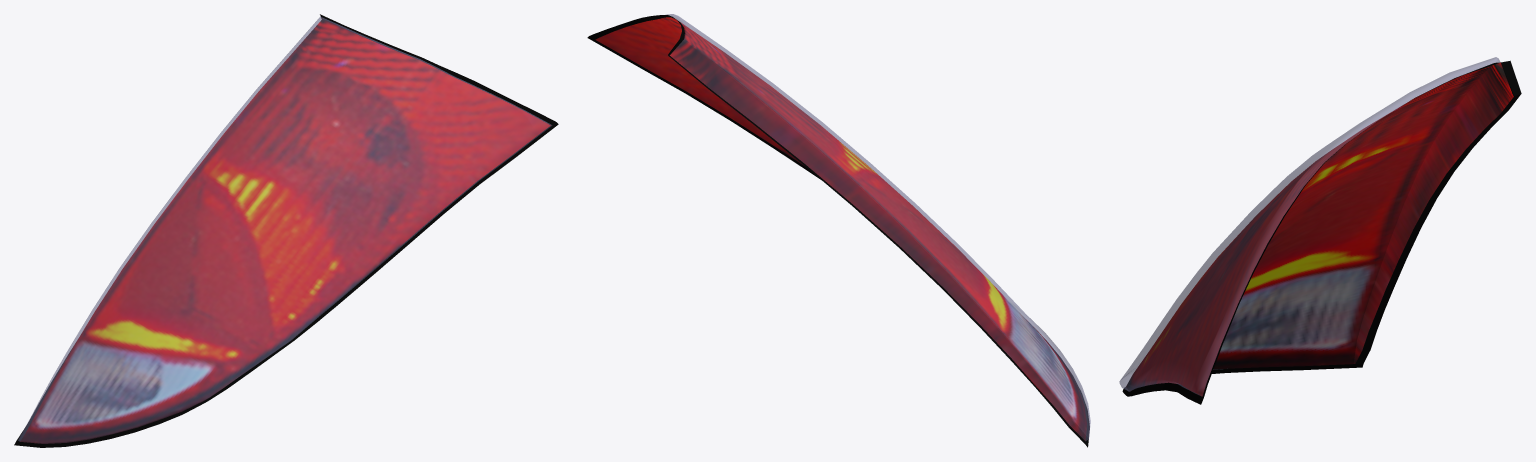
3 renders of one model, left to right at view 1: azimuth 30°, elevation 25°; view 2: azimuth 150°, elevation 25°; view 3: azimuth 270°, elevation 25°, orthographic. The views are drawn at different scales.
Visible parts, largest first — view 1: P158_541C_R_1_DTaSI_P158_541C_R, P158_541C_R_P158_541C_R_2_N, P158_541C_R_P158_541C_R_3_D; view 2: P158_541C_R_P158_541C_R_2_N, P158_541C_R_1_DTaSI_P158_541C_R, P158_541C_R_P158_541C_R_3_D; view 3: P158_541C_R_P158_541C_R_2_N, P158_541C_R_1_DTaSI_P158_541C_R, P158_541C_R_P158_541C_R_3_D.
Boxes of the visible parts, box(x1,y1,x2,y2) form: P158_541C_R_1_DTaSI_P158_541C_R: box(18, 16, 551, 443); P158_541C_R_P158_541C_R_2_N: box(20, 18, 550, 443); P158_541C_R_P158_541C_R_3_D: box(14, 14, 558, 447); P158_541C_R_P158_541C_R_2_N: box(595, 17, 1086, 440); P158_541C_R_1_DTaSI_P158_541C_R: box(666, 14, 1090, 440); P158_541C_R_P158_541C_R_3_D: box(587, 15, 1089, 447); P158_541C_R_P158_541C_R_2_N: box(1126, 62, 1513, 396); P158_541C_R_1_DTaSI_P158_541C_R: box(1119, 57, 1500, 396); P158_541C_R_P158_541C_R_3_D: box(1122, 60, 1521, 404).
Size of the model in its own units: 63.19 by 38.44 by 21.82.
